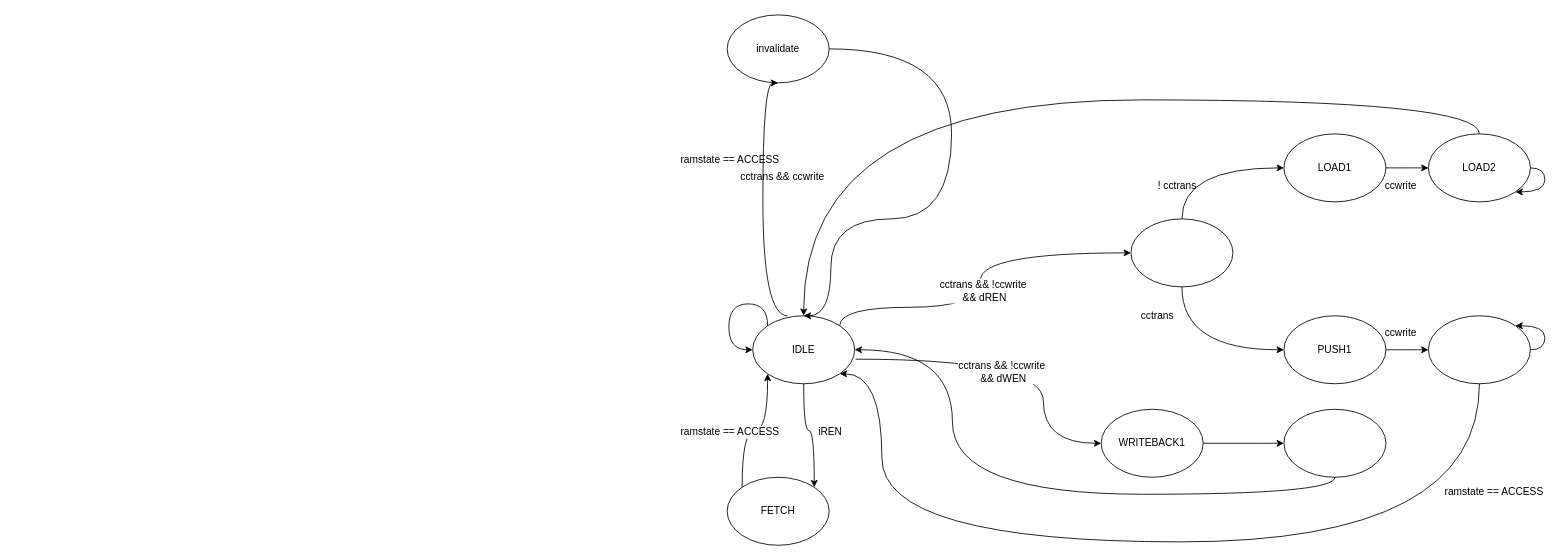
This 1560x560 diagram has some shape labels left out. Each missing label, with the centre of its shape:
"PUSH2" belongs at [1479,349].
"SNOOP" belongs at [1181,252].
"WRITEBACK2" belongs at [1334,442].
